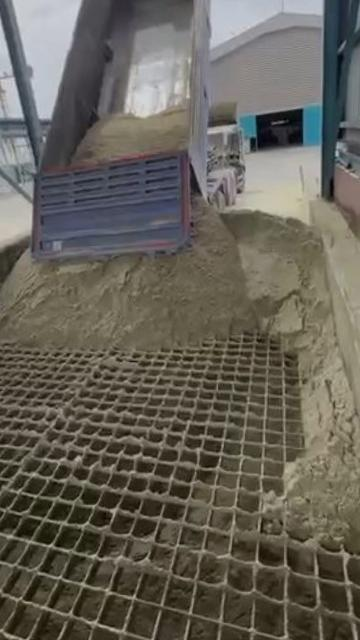sand: (0, 201, 360, 549), (71, 106, 188, 164)
